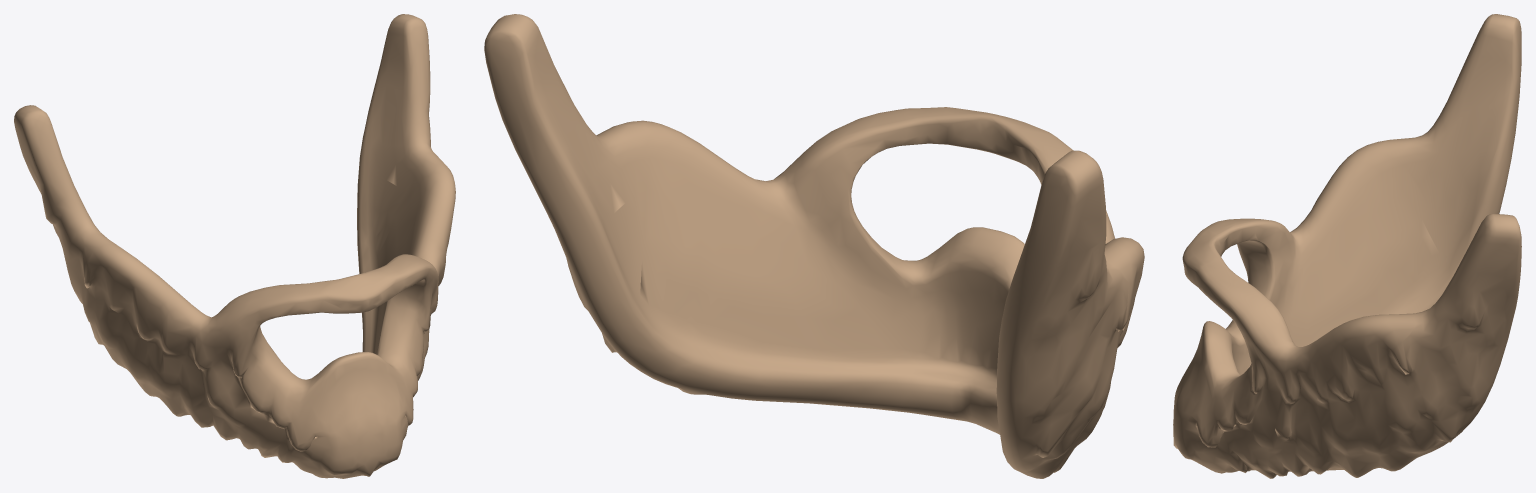
Rendered from beard-beard-23661ba0.glb.
The picture shows the model from 3 angles, left to right: view 1: azimuth 30°, elevation 25°; view 2: azimuth 150°, elevation 25°; view 3: azimuth 270°, elevation 25°; orthographic projection. The views are drawn at different scales.
Visible parts, largest first — view 1: Geo_White_Old_Male_Beard.001; view 2: Geo_White_Old_Male_Beard.001; view 3: Geo_White_Old_Male_Beard.001.
Part boxes in pixels (box(x1,y1,x2,y2)): Geo_White_Old_Male_Beard.001: box(14, 14, 455, 478); Geo_White_Old_Male_Beard.001: box(484, 14, 1144, 478); Geo_White_Old_Male_Beard.001: box(1173, 14, 1521, 478).
Bounding box in the file's own units: 1.32 × 0.9923 × 0.9046.
